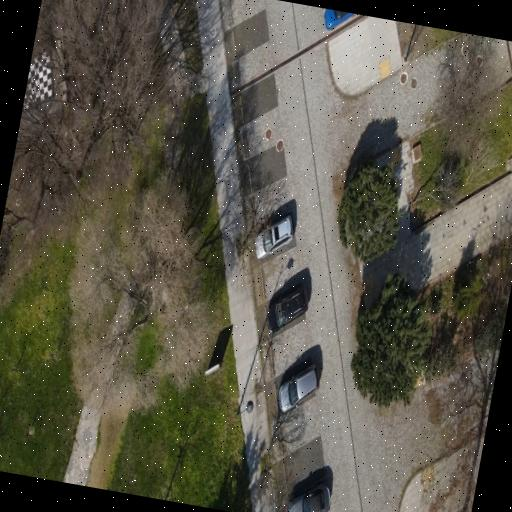person: (279, 361, 319, 412), (267, 285, 308, 333), (255, 217, 293, 259), (288, 484, 330, 511), (324, 9, 354, 30)
